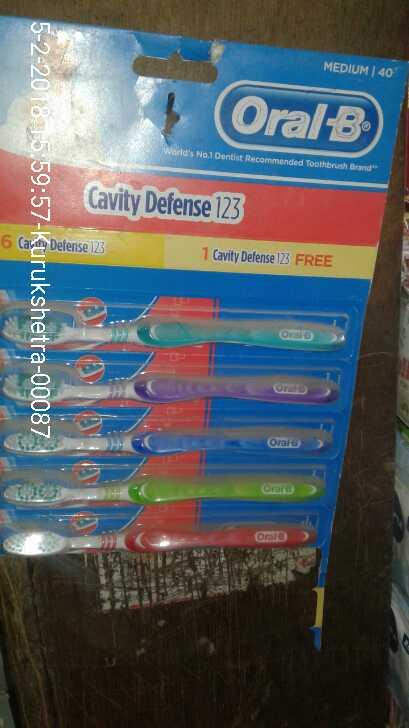oralb: (7, 302, 355, 358), (11, 366, 340, 415), (4, 521, 322, 565), (5, 418, 327, 455), (1, 474, 321, 508)
